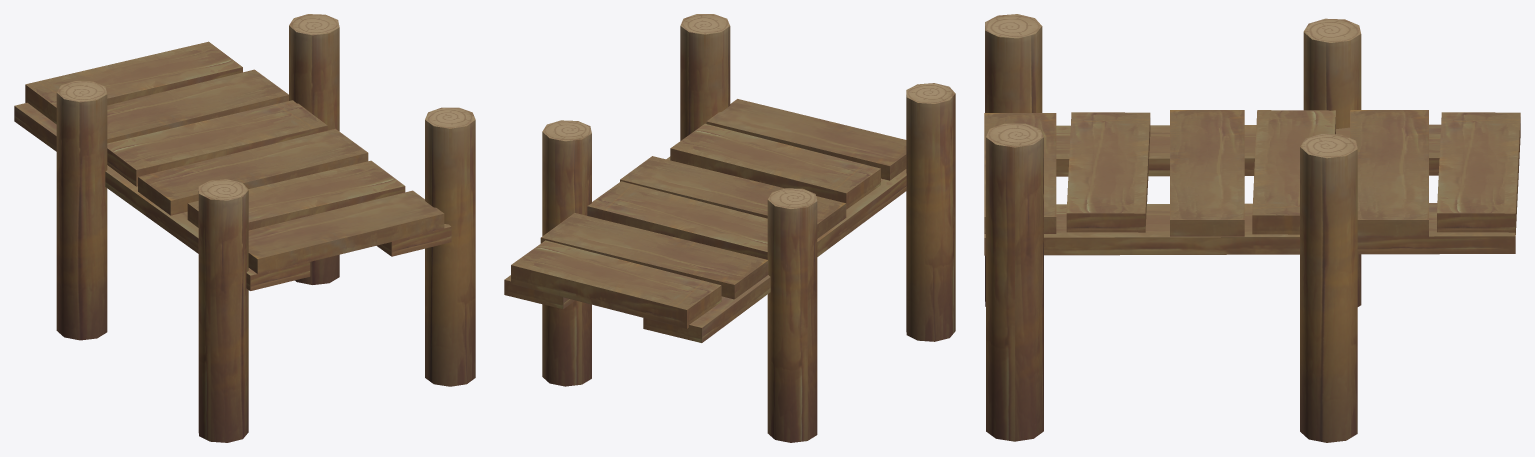
Rendered from dock_b.fbx.
The picture shows the model from 3 angles, left to right: view 1: azimuth 30°, elevation 25°; view 2: azimuth 150°, elevation 25°; view 3: azimuth 270°, elevation 25°; orthographic projection. The views are drawn at different scales.
Visible parts, largest first — view 1: jetty_b; view 2: jetty_b; view 3: jetty_b.
Boxes of the visible parts, <box> form: jetty_b: <box>14,14,475,442</box>; jetty_b: <box>504,14,955,442</box>; jetty_b: <box>984,14,1520,442</box>.
Bounding box in the file's own units: 649 × 583 × 963.
